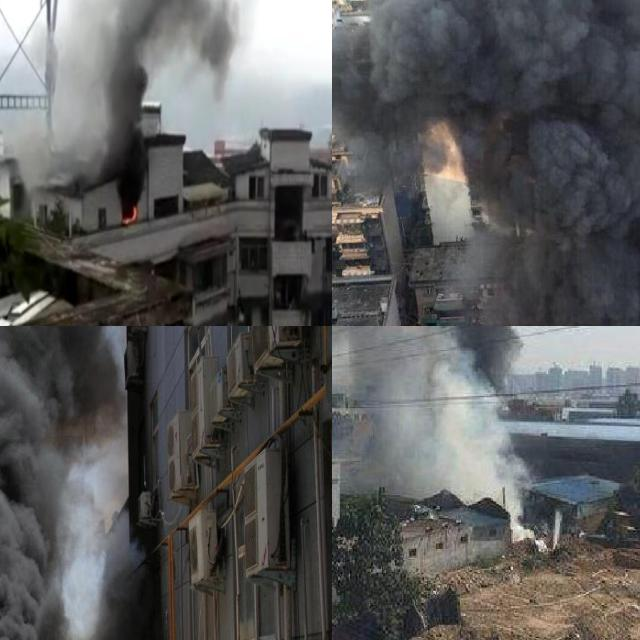fire: (121, 200, 140, 225)
smoke: (332, 0, 640, 326), (7, 0, 277, 198), (332, 326, 569, 508), (0, 326, 130, 640)
